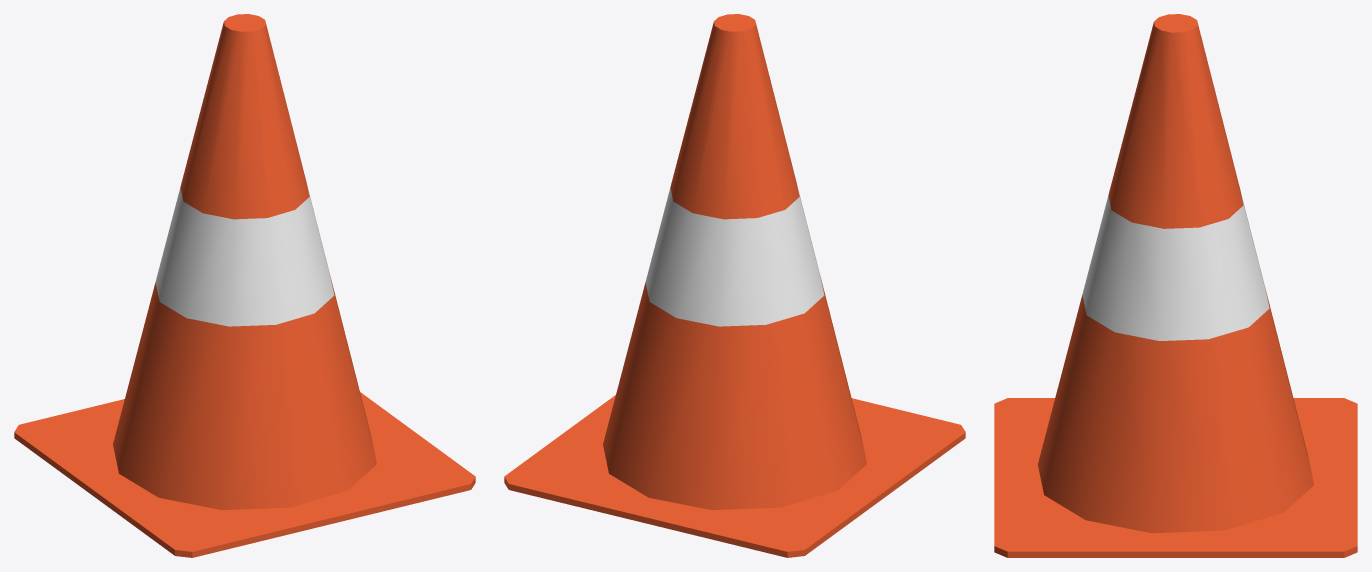
The model's file is Skate_Safety_Cone_02.FBX.
3 views of the same model, side by side, from view 1: azimuth 30°, elevation 25°; view 2: azimuth 150°, elevation 25°; view 3: azimuth 270°, elevation 25° (orthographic). The views are drawn at different scales.
Parts seen in each view (by area): view 1: Skate_Safety_Cone_02; view 2: Skate_Safety_Cone_02; view 3: Skate_Safety_Cone_02.
Boxes of the visible parts, x1,y1,x2,y2 form: Skate_Safety_Cone_02: [14, 14, 475, 557]; Skate_Safety_Cone_02: [504, 14, 965, 557]; Skate_Safety_Cone_02: [994, 14, 1357, 557].
Bounding box in the file's own units: 0.3036 × 0.4221 × 0.3036.
